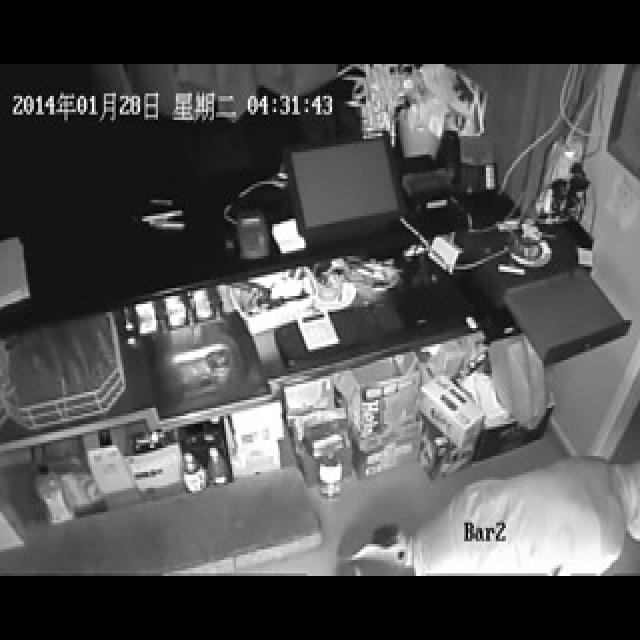thief: (398, 461, 640, 570)
